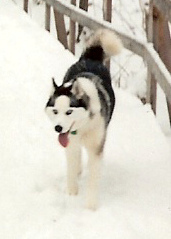dog: (42, 24, 122, 212)
